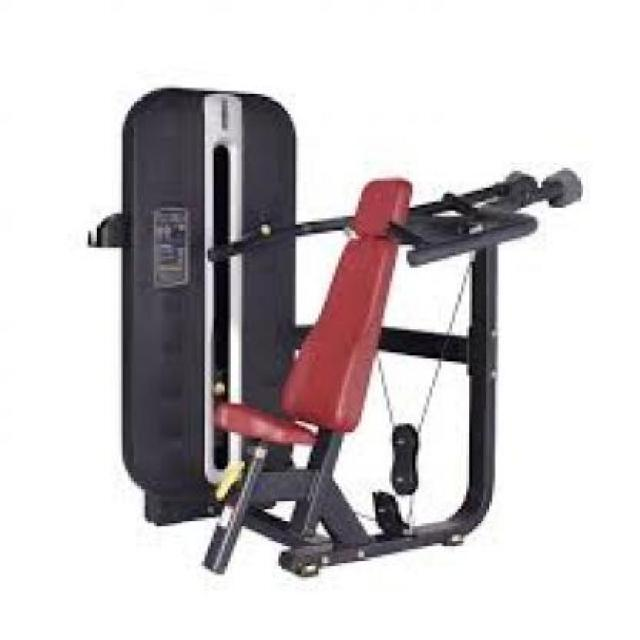shoulder press machine: (82, 70, 588, 582)
